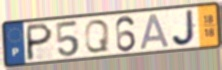5: (54, 19, 81, 59)
6: (115, 14, 138, 54)
A: (139, 12, 172, 51)
J: (170, 8, 198, 48)
P: (24, 21, 54, 62)
Q: (83, 18, 111, 54)
